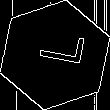L_W: (26, 35, 84, 75)
